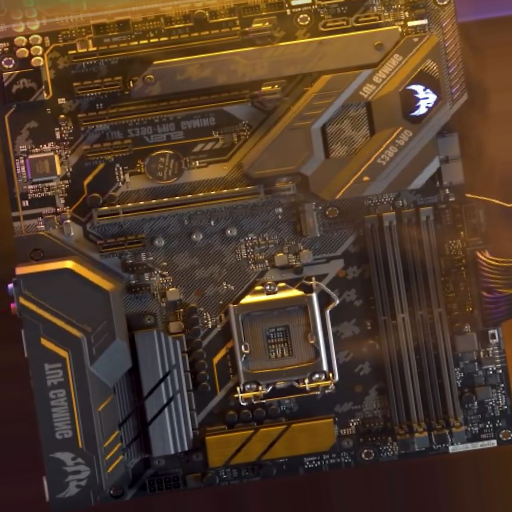CPU: (229, 272, 337, 403)
GPU: (91, 172, 305, 224), (68, 16, 281, 67), (76, 80, 290, 128)
MOTHERBOARD: (3, 1, 508, 494)
RAM: (364, 203, 469, 440)
SSD: (296, 201, 321, 240)
